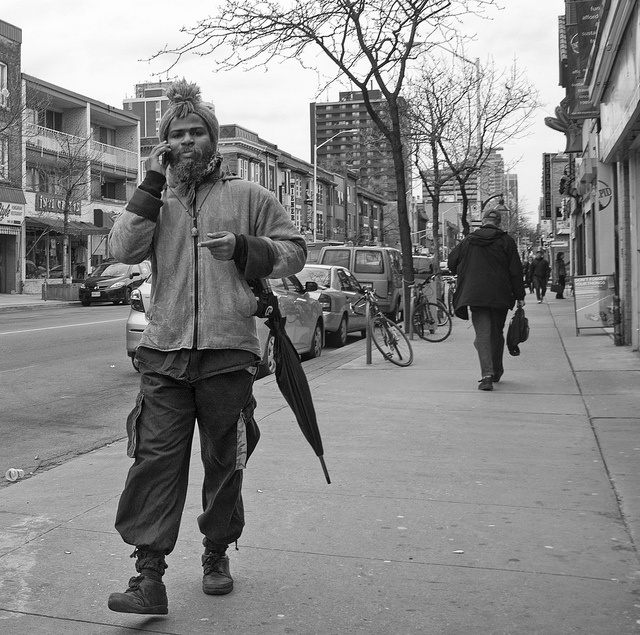non-vehicle: (349, 285, 412, 365), (412, 273, 450, 341), (441, 274, 458, 316)
